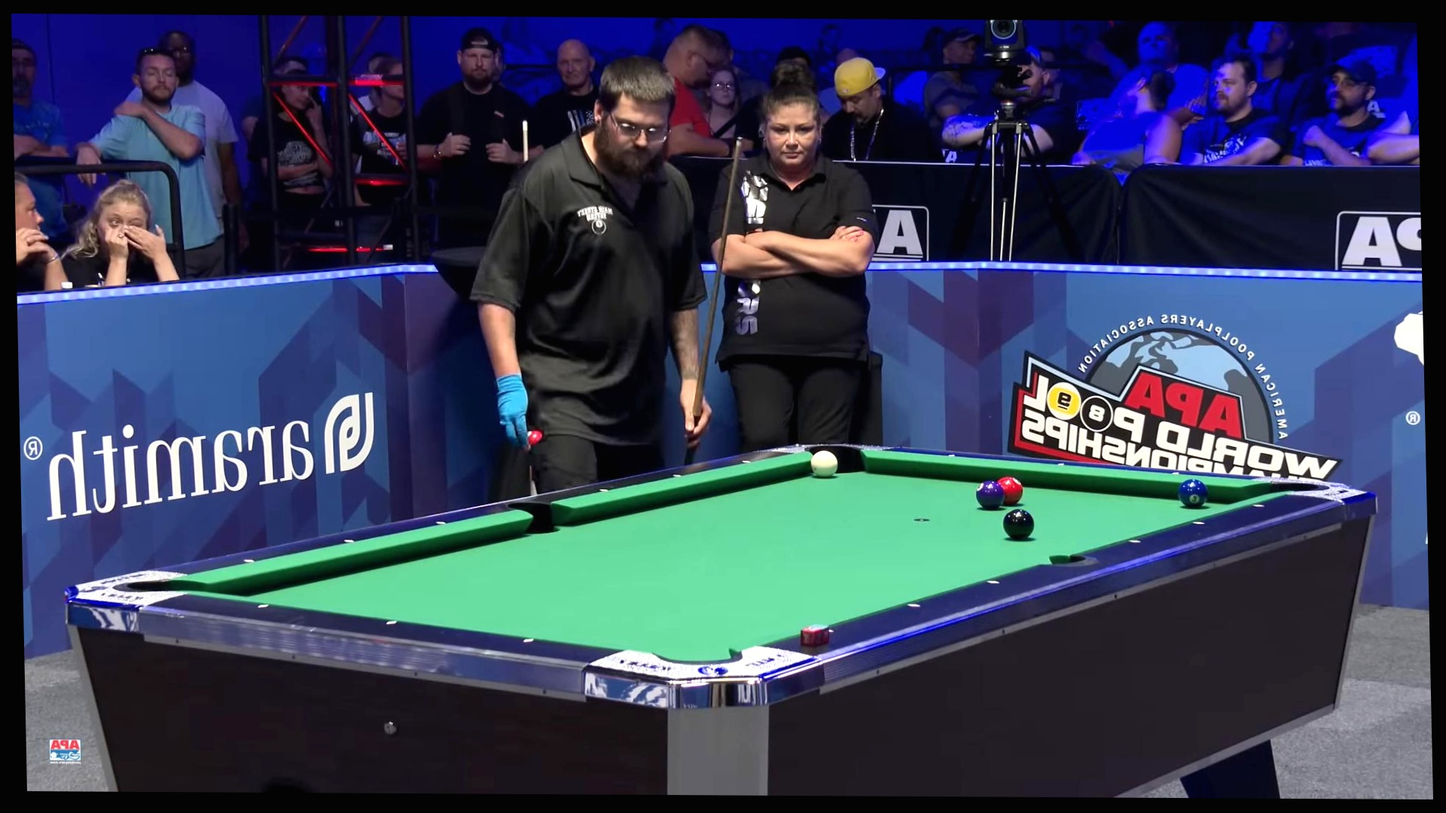Black: (985, 576, 1002, 587), (1126, 536, 1143, 547), (1052, 459, 1069, 470), (942, 450, 959, 461), (433, 517, 450, 528), (241, 556, 258, 567), (520, 634, 537, 645), (821, 625, 837, 636), (906, 600, 922, 611), (1252, 500, 1268, 511), (669, 470, 685, 481), (254, 600, 270, 611), (1191, 518, 1208, 528), (595, 485, 612, 495), (382, 617, 399, 627), (1168, 468, 1184, 478), (737, 457, 753, 467), (342, 536, 358, 546)
Cue: (1178, 478, 1208, 509), (976, 479, 1005, 510), (996, 476, 1024, 507)
Solid: (1003, 508, 1034, 541)
Stripe: (810, 450, 838, 478)
